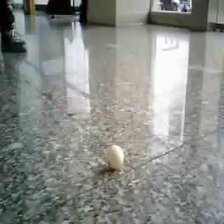w: (105, 144, 123, 167)
